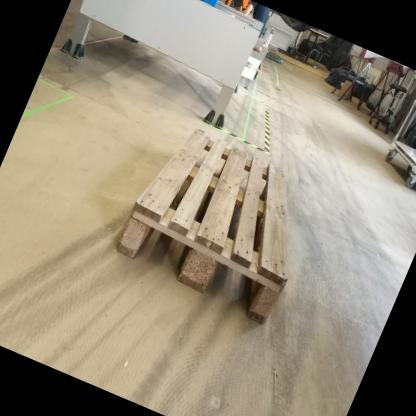BoxFace: (110, 122, 293, 336)
